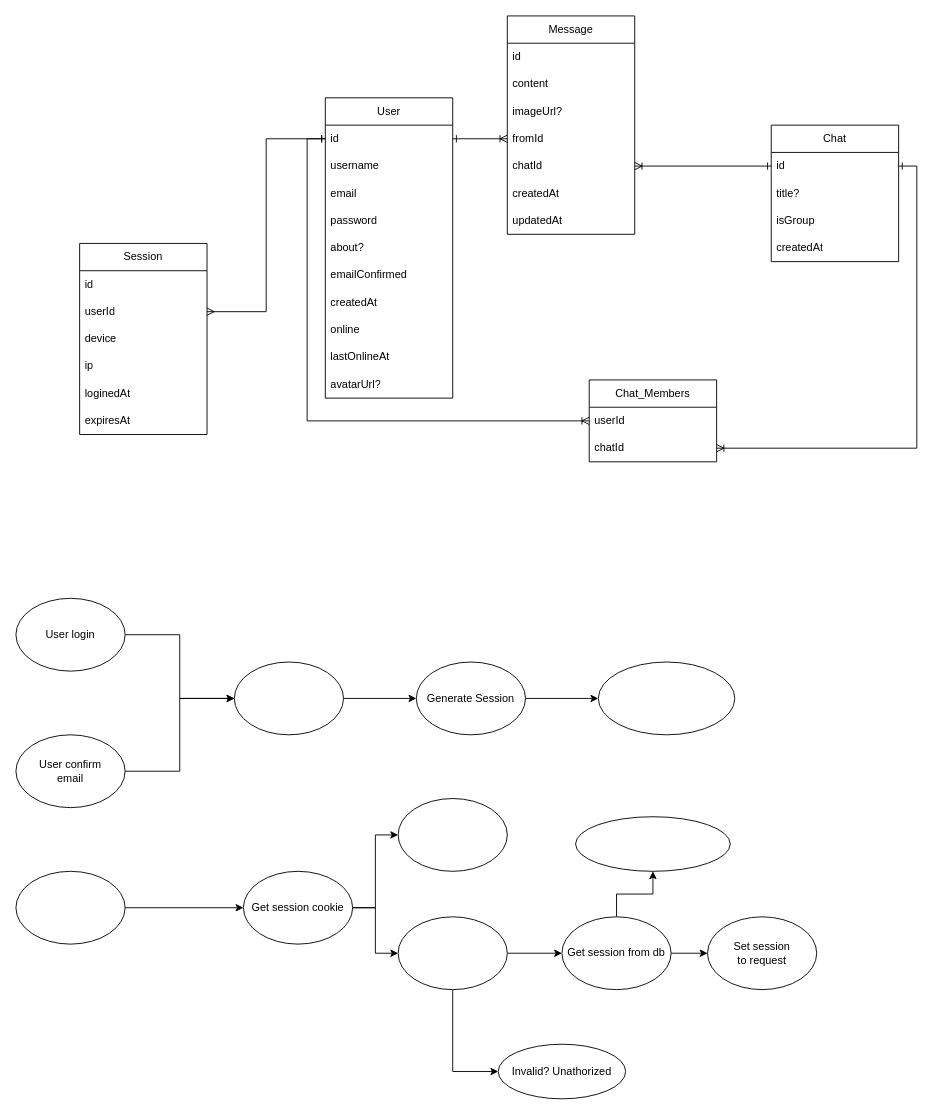
Some shapes in this 941 by 1115 pixel diagram are drawn without their labels. Each missing label, with the centre of its shape:
"Authorize user" goes at [70,907].
"No? Unathorized" goes at [452,834].
"Not found? Unathorized" goes at [652,843].
"Set jwt with sessionId to cookie" goes at [666,698].
"Verify creds" goes at [288,698].
"Verify jwt" goes at [452,953].
